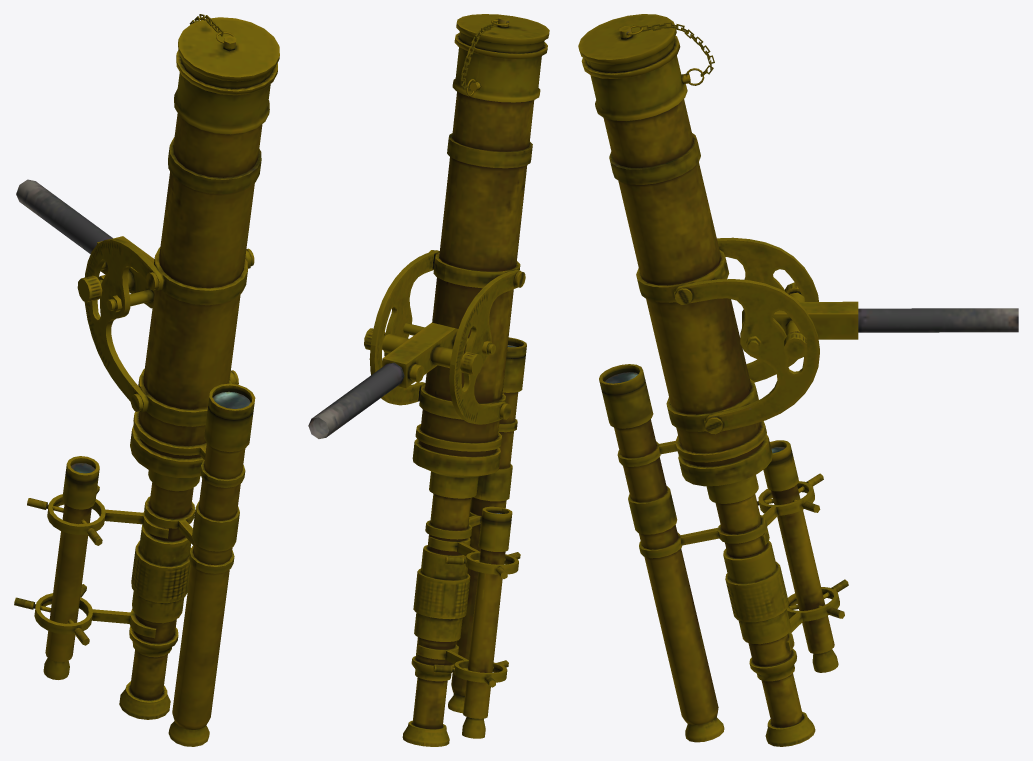
The model's file is Telescope.fbx.
The picture shows the model from 3 angles, left to right: view 1: azimuth 30°, elevation 25°; view 2: azimuth 150°, elevation 25°; view 3: azimuth 270°, elevation 25°; orthographic projection. The views are drawn at different scales.
Parts seen in each view (by area): view 1: set_0_group_0; view 2: set_0_group_0; view 3: set_0_group_0.
Part boxes in pixels (<box>): set_0_group_0: <box>14,14,279,746</box>; set_0_group_0: <box>308,14,549,746</box>; set_0_group_0: <box>578,14,1018,746</box>.
Size of the model in its own units: 37.94 by 165 by 91.53.
1 material, 1 textured.
